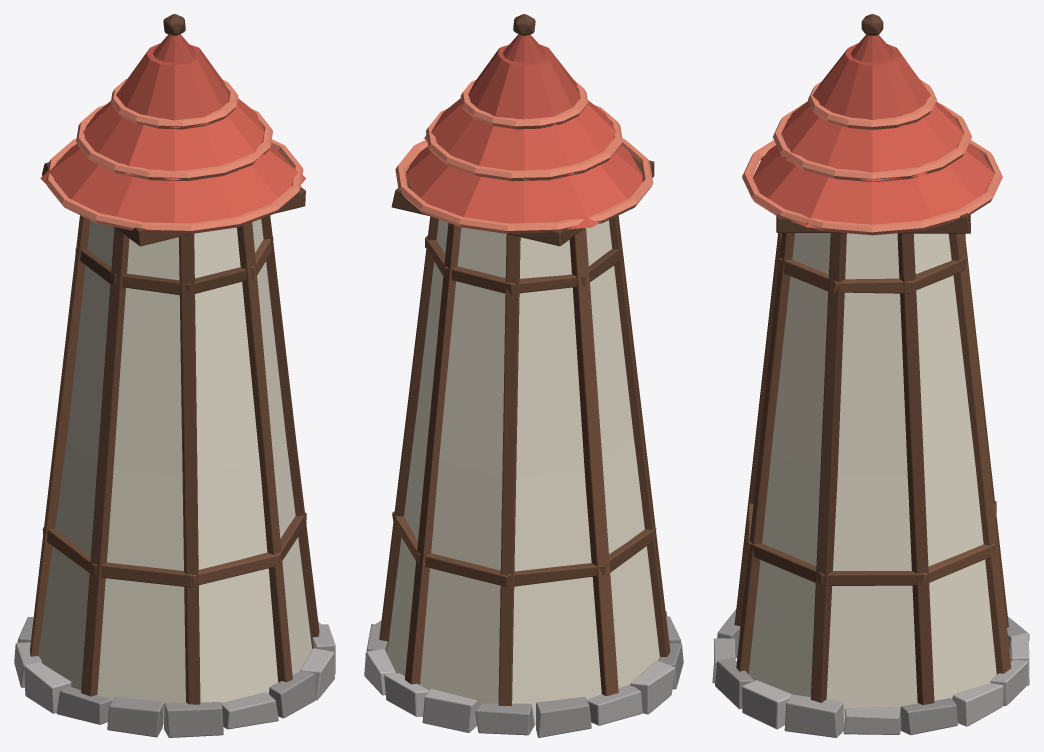
File: windmill_tower.glb
The picture shows the model from 3 angles, left to right: view 1: azimuth 30°, elevation 25°; view 2: azimuth 150°, elevation 25°; view 3: azimuth 270°, elevation 25°; orthographic projection.
Parts seen in each view (by area): view 1: wall, roof_2, timber_1, timber_0, roof_edge, stone_0, timber_2, roof_1, stone_1, stone_2, roof_0; view 2: wall, roof_2, timber_1, timber_2, roof_edge, timber_0, roof_1, stone_2, stone_0, stone_1, roof_0; view 3: wall, timber_0, roof_2, timber_1, timber_2, roof_edge, roof_1, stone_2, stone_1, stone_0, roof_0.
Boxes of the visible parts, left/top/right/bottom form: wall: left=38, top=219, right=311, bottom=724; roof_2: left=40, top=98, right=305, bottom=223; timber_1: left=42, top=222, right=306, bottom=696; timber_0: left=42, top=14, right=319, bottom=704; roof_edge: left=45, top=78, right=303, bottom=233; stone_0: left=17, top=617, right=315, bottom=737; timber_2: left=30, top=215, right=279, bottom=656; roof_1: left=116, top=43, right=229, bottom=128; stone_1: left=14, top=622, right=335, bottom=729; stone_2: left=24, top=648, right=334, bottom=713; roof_0: left=153, top=34, right=196, bottom=62; wall: left=387, top=219, right=659, bottom=725; roof_2: left=405, top=98, right=642, bottom=229; timber_1: left=392, top=215, right=670, bottom=706; timber_2: left=393, top=223, right=618, bottom=695; roof_edge: left=395, top=79, right=653, bottom=233; timber_0: left=379, top=14, right=654, bottom=645; roof_1: left=468, top=44, right=579, bottom=124; stone_2: left=364, top=649, right=675, bottom=732; stone_0: left=366, top=611, right=683, bottom=737; stone_1: left=375, top=620, right=642, bottom=725; roof_0: left=502, top=34, right=545, bottom=62; wall: left=748, top=233, right=996, bottom=726; timber_0: left=734, top=14, right=970, bottom=704; roof_2: left=752, top=101, right=994, bottom=227; timber_1: left=736, top=233, right=1008, bottom=673; timber_2: left=748, top=233, right=1011, bottom=674; roof_edge: left=742, top=79, right=1002, bottom=235; roof_1: left=807, top=43, right=930, bottom=119; stone_2: left=741, top=633, right=1029, bottom=729; stone_1: left=712, top=638, right=901, bottom=737; stone_0: left=715, top=609, right=1029, bottom=735; roof_0: left=850, top=34, right=893, bottom=62.
Size of the model in its own units: 7.24 by 16.58 by 7.21.
